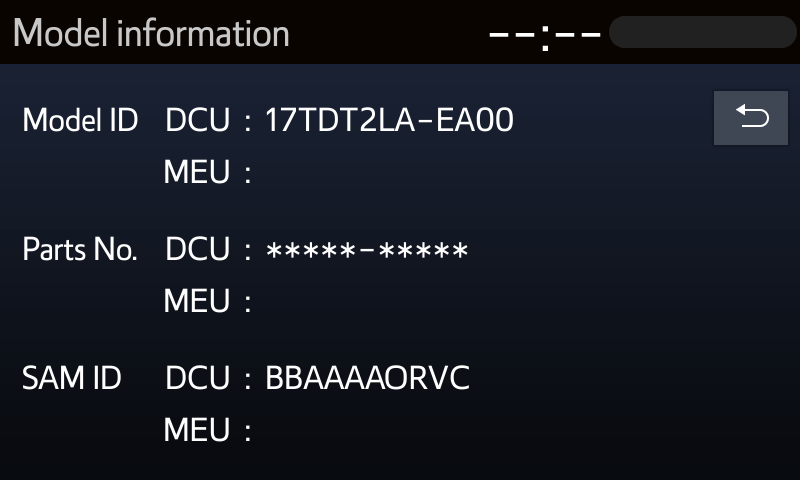touchPart: (708, 83, 793, 154)
untouchPart: (16, 85, 513, 451), (473, 13, 797, 55), (13, 10, 294, 52)
